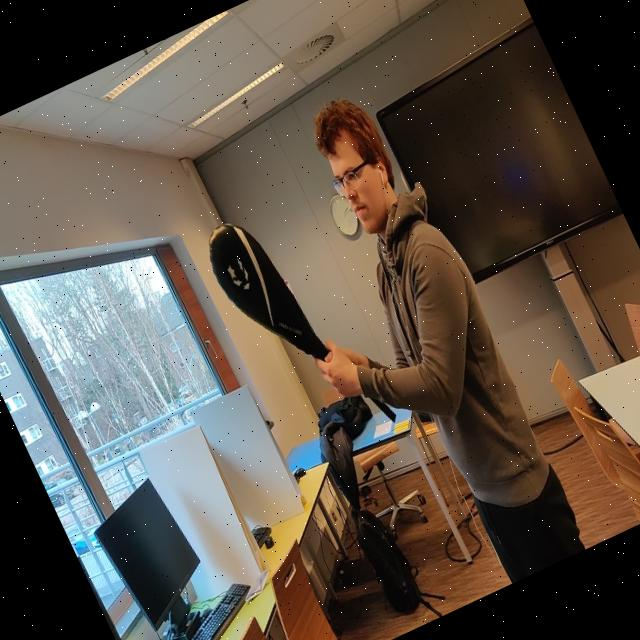paddle: (207, 223, 327, 361)
